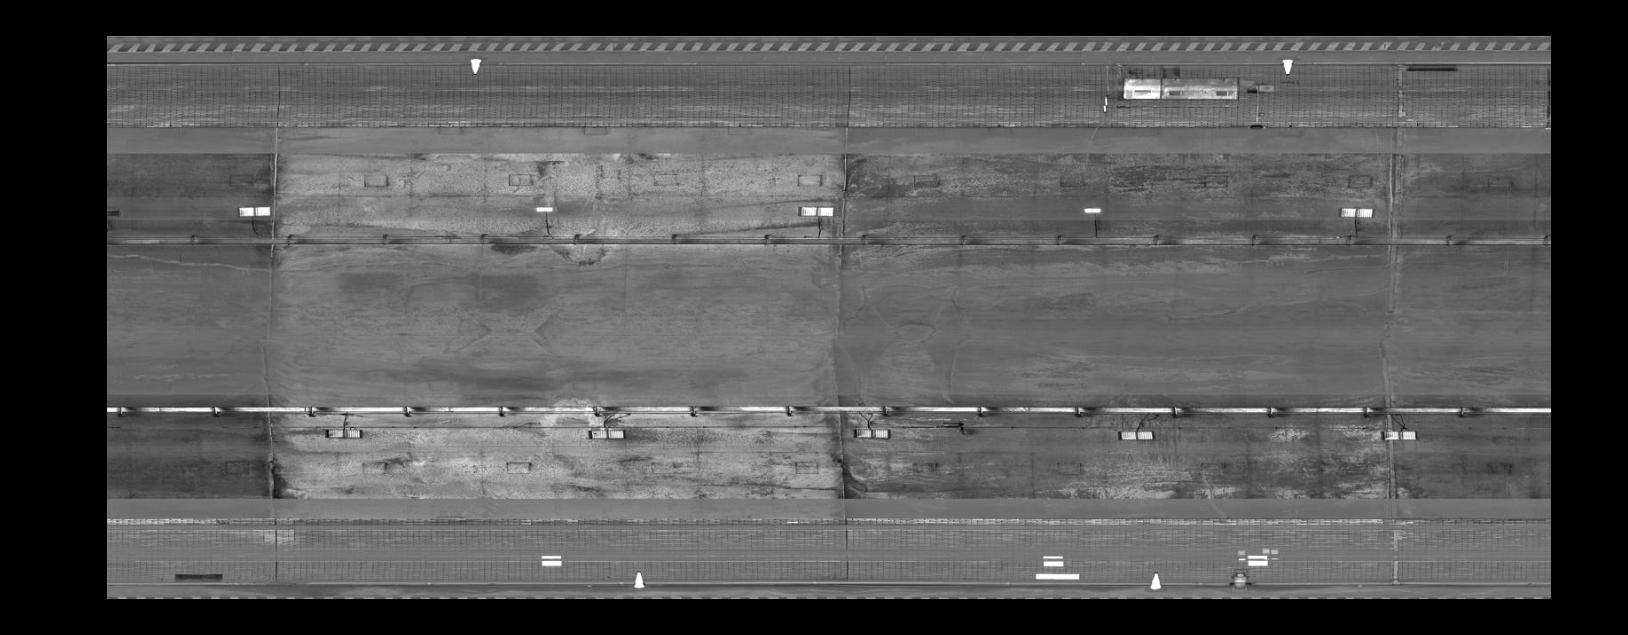light: (320, 425, 365, 442), (848, 425, 893, 442), (1113, 427, 1158, 444), (582, 427, 627, 443), (1378, 427, 1420, 443), (1334, 205, 1377, 220), (232, 202, 272, 217), (797, 203, 836, 218), (530, 205, 559, 214), (1079, 206, 1107, 215)
